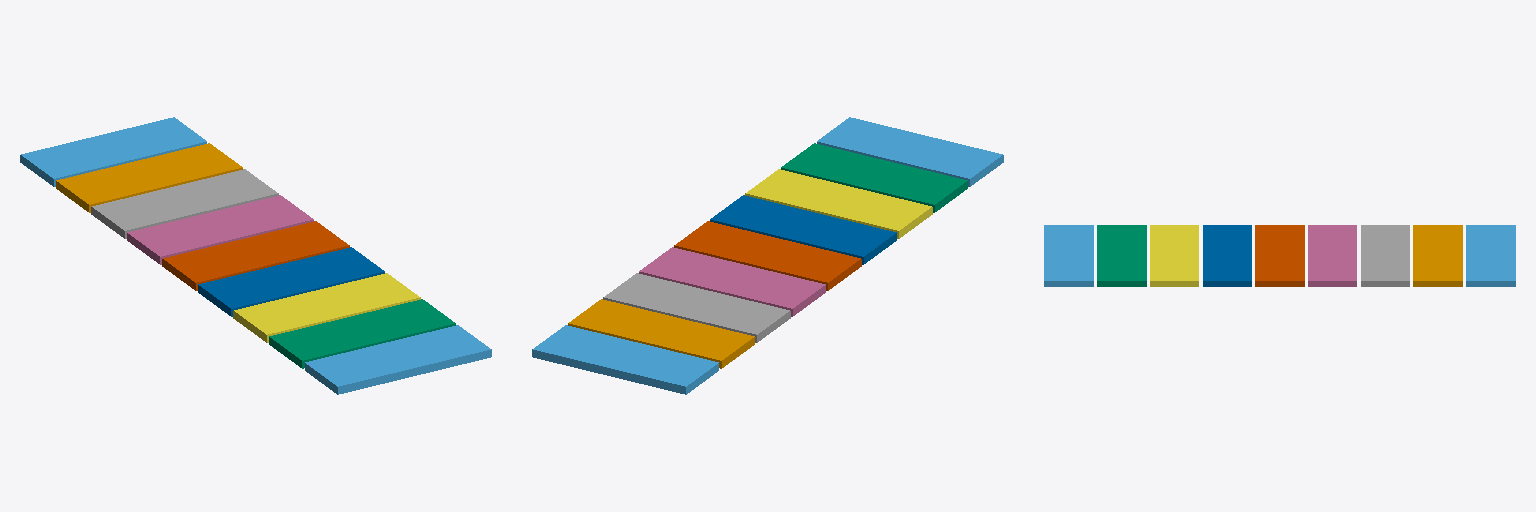
URDF robot description (conveyor_element):
<?xml version="1.0"?>
<robot name="conveyor_element">
  <link name="base_link">
  </link>
  <link name="element_0">
    <visual>
      <geometry>
        <box size="0.4 0.15 0.02" />
      </geometry>
    </visual>
    <collision>
      <geometry>
        <box size="0.4 0.15 0.02" />
      </geometry>
    </collision>
  </link>
  <joint name="element_0_slider" type="prismatic">
        <parent link="base_link"/>
        <child link="element_0"/>
        <axis xyz="0 1 0"/>
  </joint>
  <link name="element_1">
    <visual>
      <origin xyz="0 0.16 0"/>
      <geometry>
        <box size="0.4 0.15 0.02" />
      </geometry>
    </visual>
    <collision>
      <origin xyz="0 0.16 0"/>
      <geometry>
        <box size="0.4 0.15 0.02" />
      </geometry>
    </collision>
  </link>
  <joint name="element_1_slider" type="prismatic">
        <parent link="base_link"/>
        <child link="element_1"/>
        <axis xyz="0 1 0"/>
  </joint>
  <link name="element_2">
    <visual>
      <origin xyz="0 0.32 0"/>
      <geometry>
        <box size="0.4 0.15 0.02" />
      </geometry>
    </visual>
    <collision>
      <origin xyz="0 0.32 0"/>
      <geometry>
        <box size="0.4 0.15 0.02" />
      </geometry>
    </collision>
  </link>
  <joint name="element_2_slider" type="prismatic">
        <parent link="base_link"/>
        <child link="element_2"/>
        <axis xyz="0 1 0"/>
  </joint>
  <link name="element_3">
    <visual>
      <origin xyz="0 0.48 0"/>
      <geometry>
        <box size="0.4 0.15 0.02" />
      </geometry>
    </visual>
    <collision>
      <origin xyz="0 0.48 0"/>
      <geometry>
        <box size="0.4 0.15 0.02" />
      </geometry>
    </collision>
  </link>
  <joint name="element_3_slider" type="prismatic">
        <parent link="base_link"/>
        <child link="element_3"/>
        <axis xyz="0 1 0"/>
  </joint>
  <link name="element_4">
    <visual>
      <origin xyz="0 0.64 0"/>
      <geometry>
        <box size="0.4 0.15 0.02" />
      </geometry>
    </visual>
    <collision>
      <origin xyz="0 0.64 0"/>
      <geometry>
        <box size="0.4 0.15 0.02" />
      </geometry>
    </collision>
  </link>
  <joint name="element_4_slider" type="prismatic">
        <parent link="base_link"/>
        <child link="element_4"/>
        <axis xyz="0 1 0"/>
  </joint>
  <link name="element_5">
    <visual>
      <origin xyz="0 0.8 0"/>
      <geometry>
        <box size="0.4 0.15 0.02" />
      </geometry>
    </visual>
    <collision>
      <origin xyz="0 0.8 0"/>
      <geometry>
        <box size="0.4 0.15 0.02" />
      </geometry>
    </collision>
  </link>
  <joint name="element_5_slider" type="prismatic">
        <parent link="base_link"/>
        <child link="element_5"/>
        <axis xyz="0 1 0"/>
  </joint>
  <link name="element_6">
    <visual>
      <origin xyz="0 0.96 0"/>
      <geometry>
        <box size="0.4 0.15 0.02" />
      </geometry>
    </visual>
    <collision>
      <origin xyz="0 0.96 0"/>
      <geometry>
        <box size="0.4 0.15 0.02" />
      </geometry>
    </collision>
  </link>
  <joint name="element_6_slider" type="prismatic">
        <parent link="base_link"/>
        <child link="element_6"/>
        <axis xyz="0 1 0"/>
  </joint>
  <link name="element_7">
    <visual>
      <origin xyz="0 1.12 0"/>
      <geometry>
        <box size="0.4 0.15 0.02" />
      </geometry>
    </visual>
    <collision>
      <origin xyz="0 1.12 0"/>
      <geometry>
        <box size="0.4 0.15 0.02" />
      </geometry>
    </collision>
  </link>
  <joint name="element_7_slider" type="prismatic">
        <parent link="base_link"/>
        <child link="element_7"/>
        <axis xyz="0 1 0"/>
  </joint>
  <link name="element_8">
    <visual>
      <origin xyz="0 1.28 0"/>
      <geometry>
        <box size="0.4 0.15 0.02" />
      </geometry>
    </visual>
    <collision>
      <origin xyz="0 1.28 0"/>
      <geometry>
        <box size="0.4 0.15 0.02" />
      </geometry>
    </collision>
  </link>
  <joint name="element_8_slider" type="prismatic">
        <parent link="base_link"/>
        <child link="element_8"/>
        <axis xyz="0 1 0"/>
  </joint>
</robot>

--- Facts derived from the render (not from the file) ---
3 views of the same robot in one strip: view 1: azimuth 30°, elevation 25°; view 2: azimuth 150°, elevation 25°; view 3: azimuth 270°, elevation 25° (orthographic).
Robot: conveyor_element — 10 links, 9 joints (9 prismatic); root link base_link; default pose: every joint at zero.
Visible links, largest first — view 1: element_0, element_4, element_6, element_2, element_8, element_1, element_3, element_5, element_7; view 2: element_8, element_4, element_2, element_6, element_0, element_7, element_1, element_3, element_5; view 3: element_0, element_1, element_4, element_7, element_8, element_2, element_3, element_5, element_6.
Boxes of the visible links, <box> form: element_0: <box>305,325,491,394</box>; element_4: <box>162,221,349,290</box>; element_6: <box>91,169,278,238</box>; element_2: <box>233,273,420,342</box>; element_8: <box>20,117,206,186</box>; element_1: <box>269,299,455,368</box>; element_3: <box>198,247,384,316</box>; element_5: <box>127,195,313,264</box>; element_7: <box>56,143,242,212</box>; element_8: <box>532,325,718,394</box>; element_4: <box>674,221,861,290</box>; element_2: <box>745,169,932,238</box>; element_6: <box>603,273,790,342</box>; element_0: <box>817,117,1003,186</box>; element_7: <box>568,299,754,368</box>; element_1: <box>781,143,967,212</box>; element_3: <box>710,195,896,264</box>; element_5: <box>639,247,825,316</box>; element_0: <box>1044,225,1093,286</box>; element_1: <box>1097,225,1146,286</box>; element_4: <box>1255,225,1304,286</box>; element_7: <box>1413,225,1462,286</box>; element_8: <box>1466,225,1515,286</box>; element_2: <box>1150,225,1198,286</box>; element_3: <box>1203,225,1251,286</box>; element_5: <box>1308,225,1356,286</box>; element_6: <box>1361,225,1409,286</box>.
Bounding box of the posed robot: 0.4 × 1.43 × 0.02 m (x, y, z).
Geometry: primitives only (box / cylinder / sphere), no mesh files.